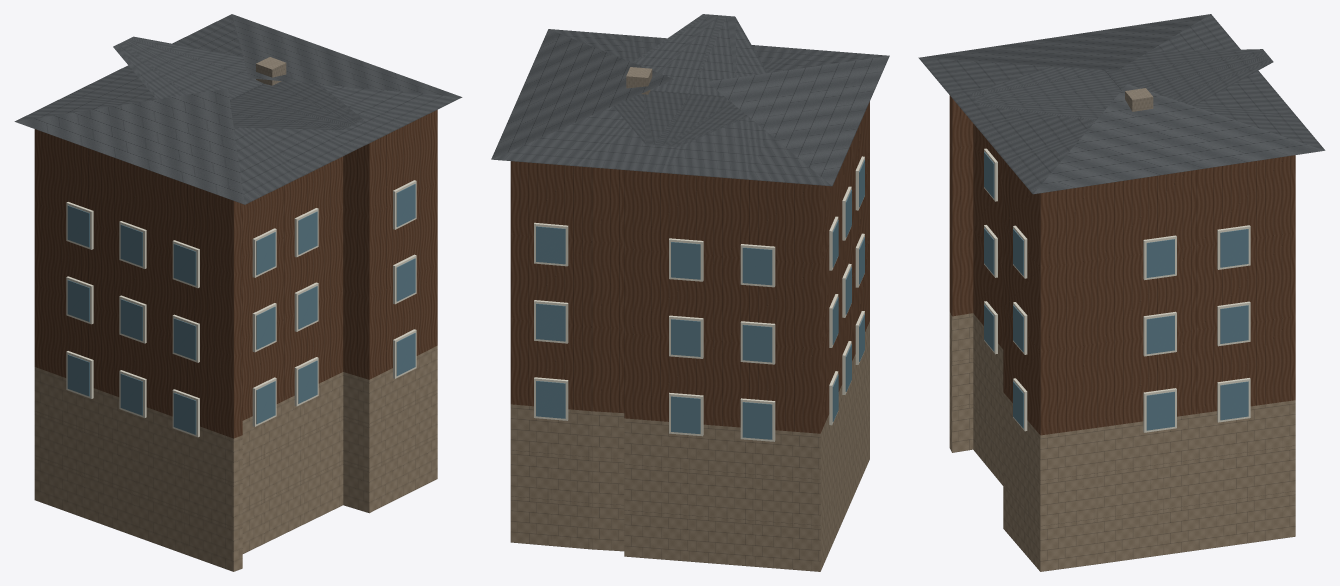
The model's file is core_0076.gltf.
3 renders of one model, left to right at view 1: azimuth 30°, elevation 25°; view 2: azimuth 150°, elevation 25°; view 3: azimuth 270°, elevation 25°, orthographic. The views are drawn at different scales.
Visible parts, largest first — view 1: core_0076; view 2: core_0076; view 3: core_0076.
Boxes of the visible parts, left/top/right/bottom form: core_0076: left=14, top=14, right=462, bottom=571; core_0076: left=491, top=14, right=889, bottom=571; core_0076: left=918, top=14, right=1325, bottom=571.
Size of the model in its own units: 14.45 by 15.65 by 13.79.
Materials: 6 (6 with a texture image).
